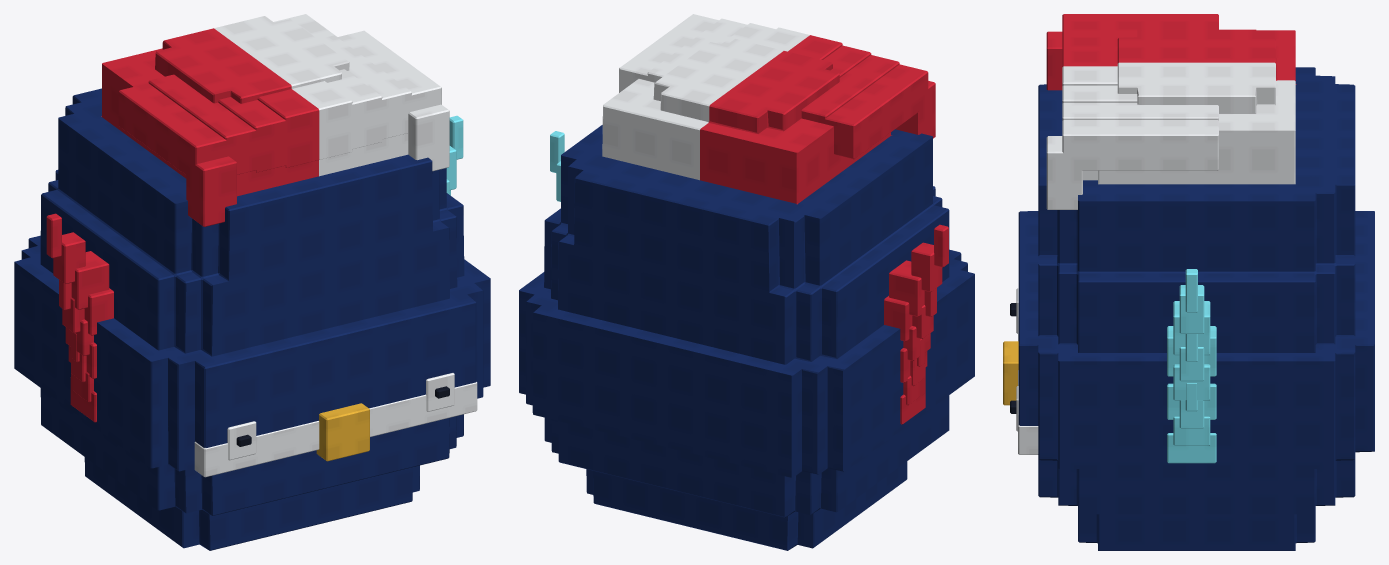
File: Todoroki_Egg.fbx
3 views of the same model, side by side, from view 1: azimuth 30°, elevation 25°; view 2: azimuth 150°, elevation 25°; view 3: azimuth 270°, elevation 25° (orthographic). The views are drawn at different scales.
Visible parts, largest first — view 1: Todoroki_Egg; view 2: Todoroki_Egg; view 3: Todoroki_Egg.
Part boxes in pixels (box(x1,y1,x2,y2)): Todoroki_Egg: box(14, 14, 490, 550); Todoroki_Egg: box(519, 14, 974, 550); Todoroki_Egg: box(1003, 14, 1374, 550).
Size of the model in its own units: 323 by 320 by 251.
6 materials, 6 textured.
